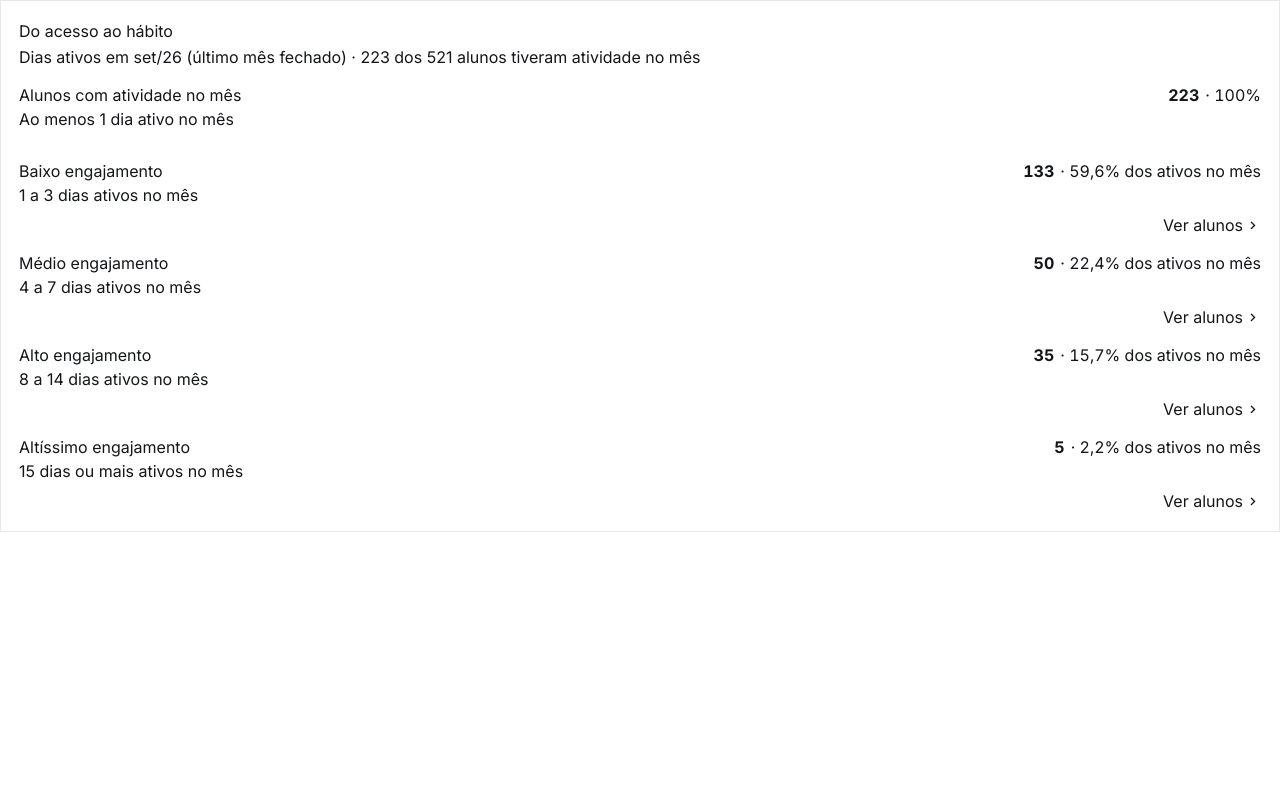
Test: DoAcessoAoHabito — pop-up da faixa › clicar em medio abre o pop-up e consulta habito_medio (20 por página)
Click the button with aria-label "Médio engajamento: 50 alunos · ver lista de alunos" at (94, 263), box [11,245,1269,335]
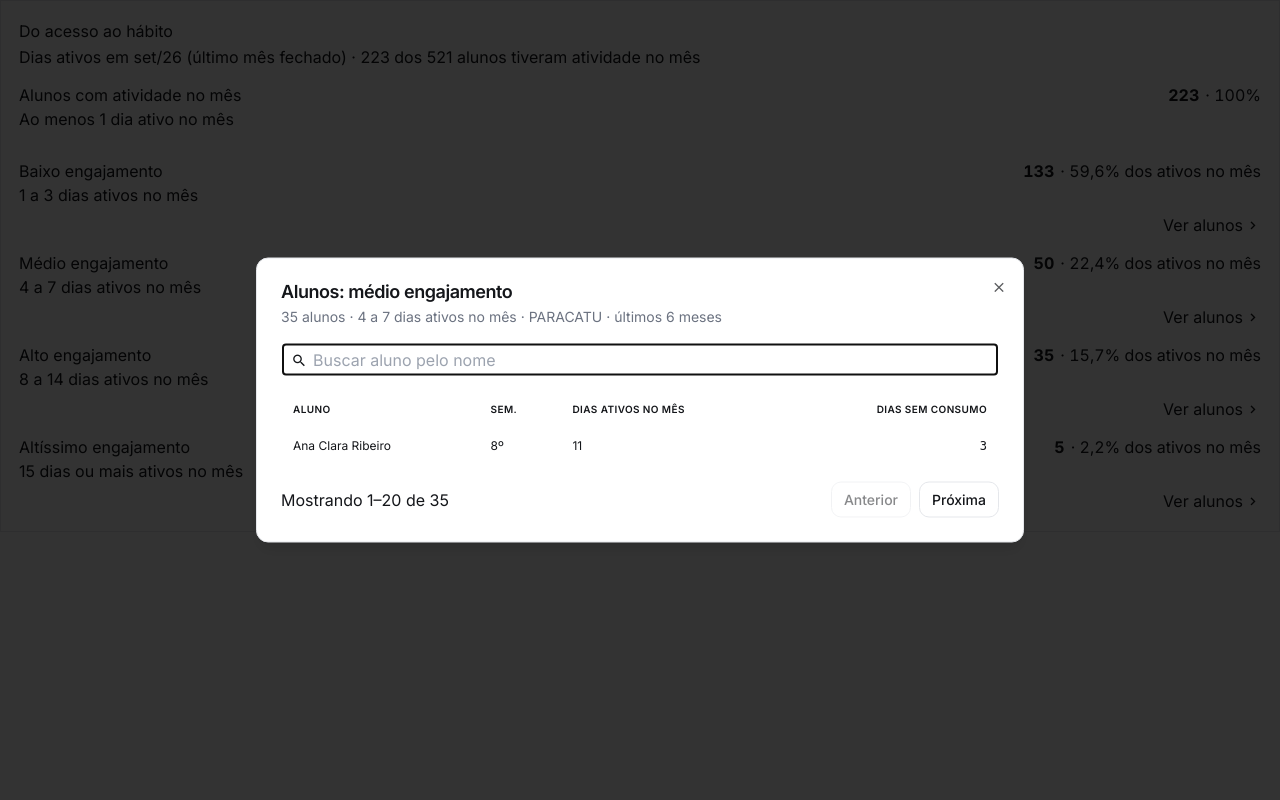
Now the dialog with test id "lista-alunos-dialog" is shown, box [256,258,1024,542]
